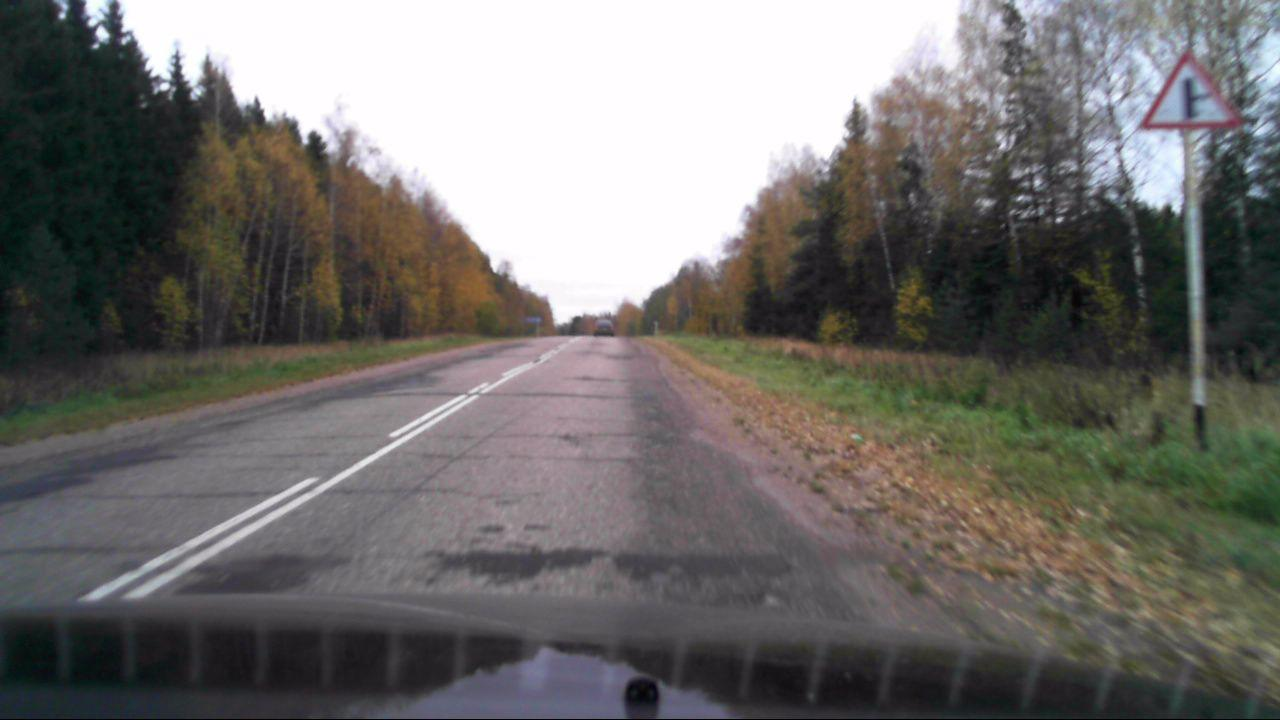2_3_2: (1142, 46, 1241, 132)
